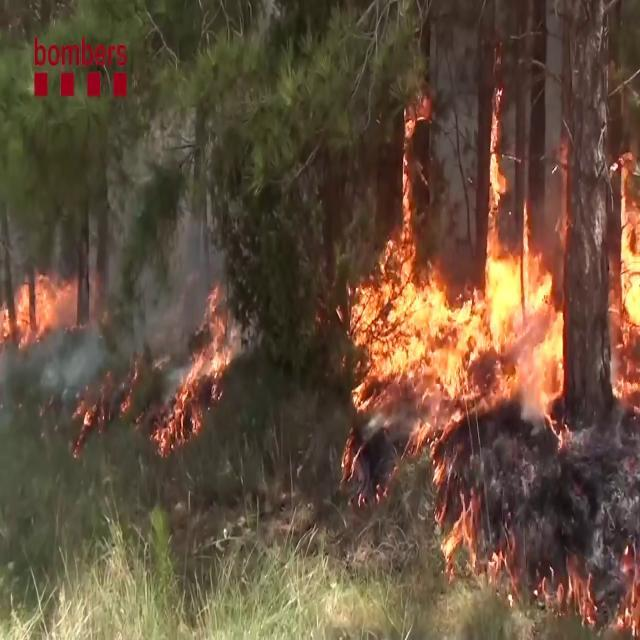Fire: (343, 80, 570, 428), (158, 280, 240, 452), (0, 258, 82, 355), (610, 150, 640, 412)
